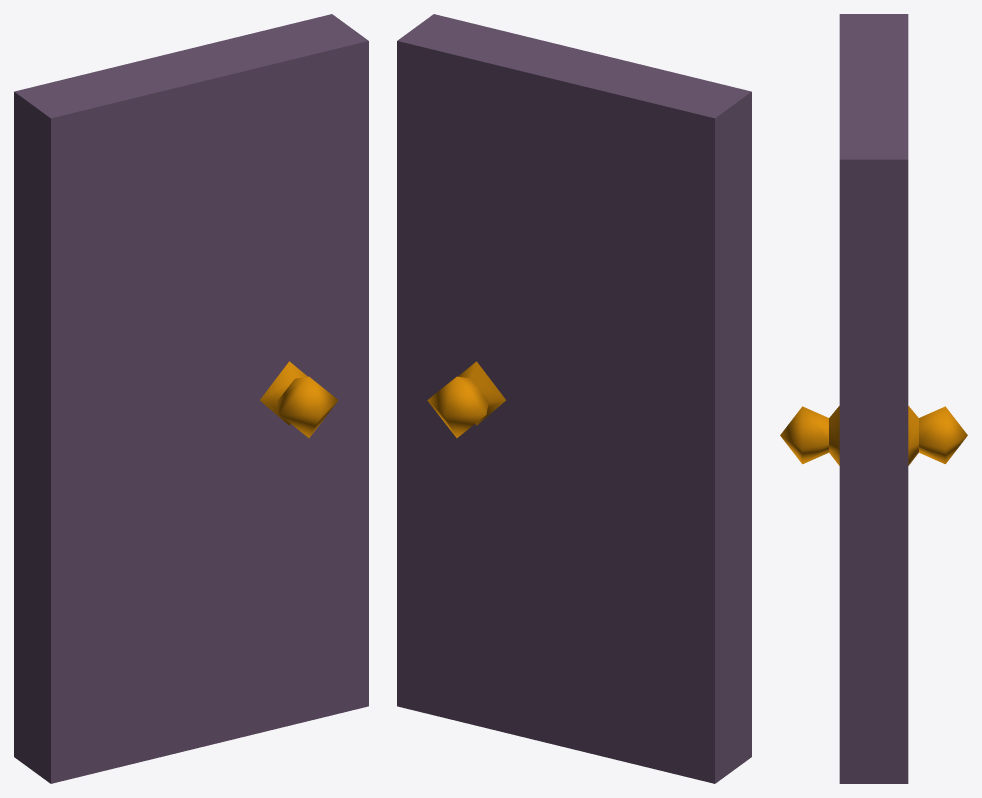
The model's file is Door.glb.
3 renders of one model, left to right at view 1: azimuth 30°, elevation 25°; view 2: azimuth 150°, elevation 25°; view 3: azimuth 270°, elevation 25°, orthographic. The views are drawn at different scales.
Parts seen in each view (by area): view 1: Door; view 2: Door; view 3: Door.
Part boxes in pixels (box(x1,y1,x2,y2)): Door: box(14, 14, 368, 783); Door: box(397, 14, 751, 783); Door: box(780, 14, 967, 783).
Bounding box in the file's own units: 1 × 2 × 0.5457.
